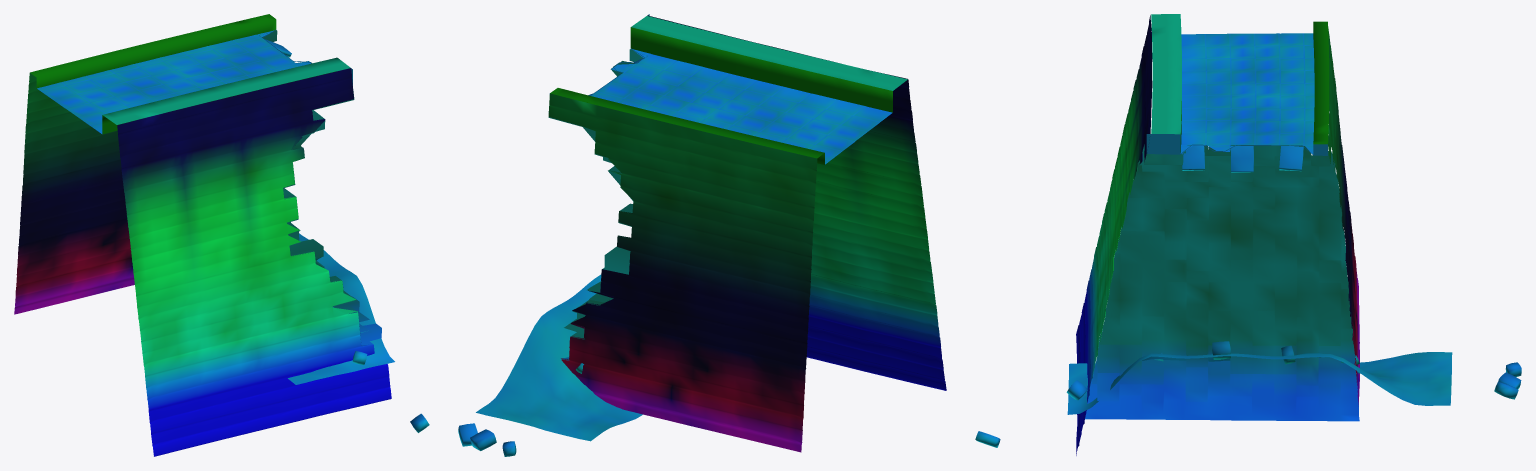
Rendered from seawall_breach_end_w.glb.
3 renders of one model, left to right at view 1: azimuth 30°, elevation 25°; view 2: azimuth 150°, elevation 25°; view 3: azimuth 270°, elevation 25°, orthographic. The views are drawn at different scales.
Parts seen in each view (by area): view 1: seawall_breach_end_w; view 2: seawall_breach_end_w; view 3: seawall_breach_end_w.
Boxes of the visible parts, x1,y1,x2,y2 form: seawall_breach_end_w: [14, 14, 429, 456]; seawall_breach_end_w: [458, 14, 946, 456]; seawall_breach_end_w: [975, 14, 1521, 455].
Size of what is drawn, in the model's own units: 12.24 by 14.41 by 22.25.
